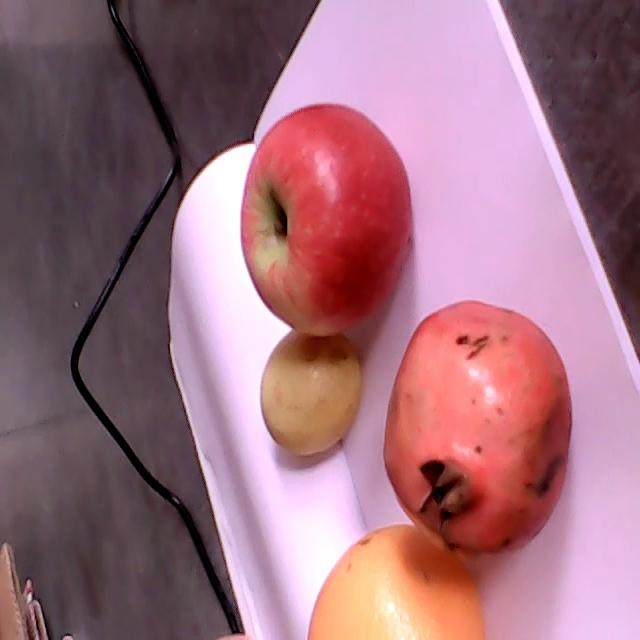apple: (239, 105, 411, 332)
lemon: (259, 326, 363, 455)
orange: (308, 524, 486, 639)
pomegranate: (384, 300, 572, 557)
